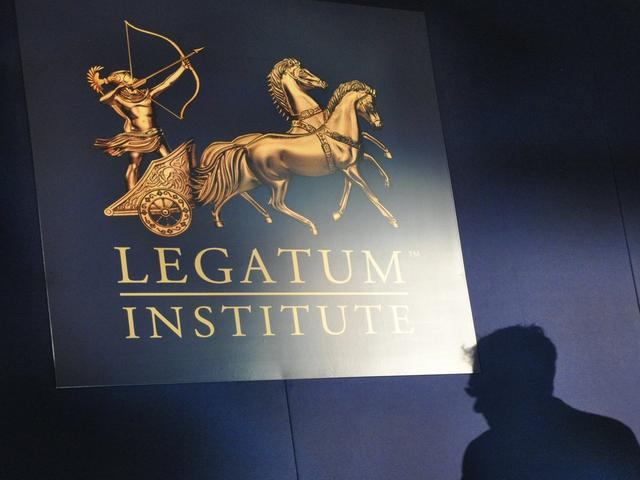horse: (151, 78, 400, 262)
